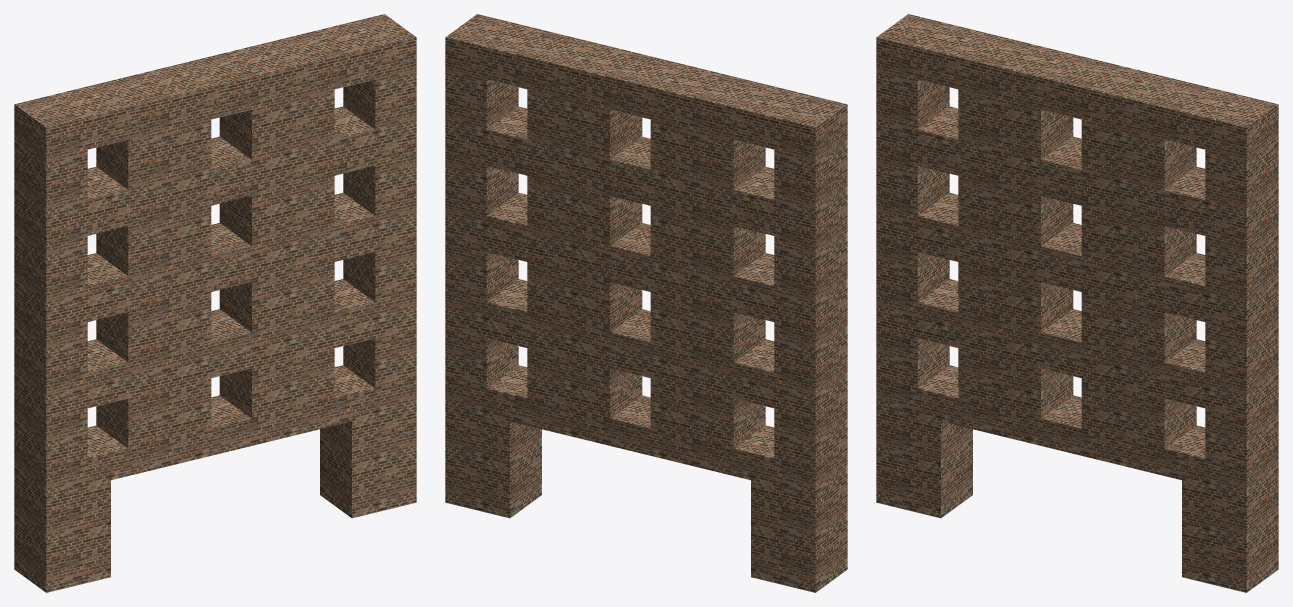
File: facade_wall.fbx
3 views of the same model, side by side, from view 1: azimuth 30°, elevation 25°; view 2: azimuth 150°, elevation 25°; view 3: azimuth 330°, elevation 25° (orthographic).
Visible parts, largest first — view 1: facade_wall; view 2: facade_wall; view 3: facade_wall.
Part boxes in pixels (left/top/right/bottom): facade_wall: left=14, top=14, right=416, bottom=592; facade_wall: left=445, top=14, right=847, bottom=592; facade_wall: left=876, top=14, right=1278, bottom=592.
Size of the model in its own units: 20 by 24 by 3.
1 material, 1 textured.
